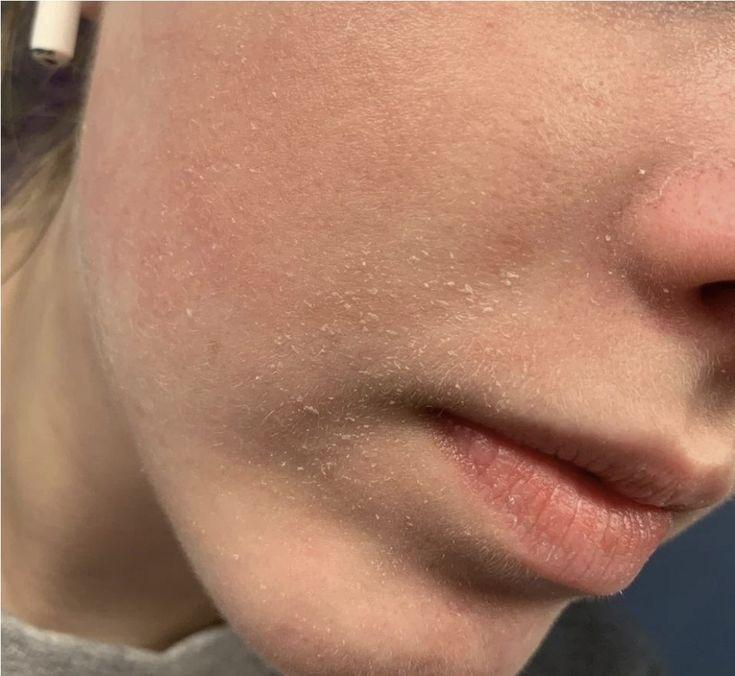Dry-Skin: (167, 353, 492, 598), (168, 85, 250, 340), (320, 248, 453, 398), (465, 160, 592, 305), (267, 440, 412, 563), (335, 68, 435, 207), (307, 612, 502, 676), (492, 47, 617, 135), (598, 130, 655, 313), (267, 480, 270, 490), (528, 67, 530, 68)
